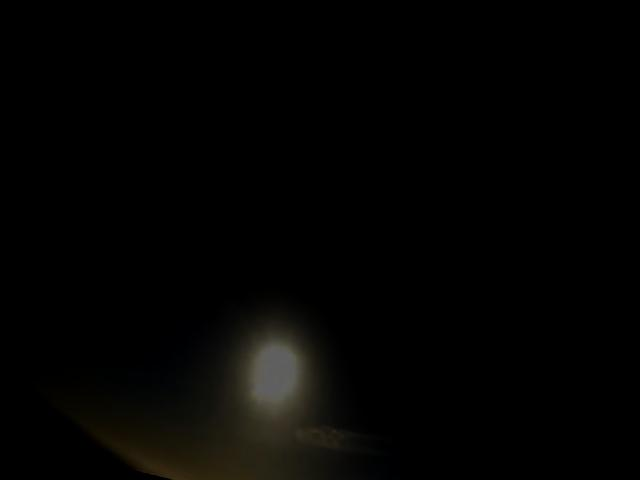uav: (357, 126, 433, 204)
